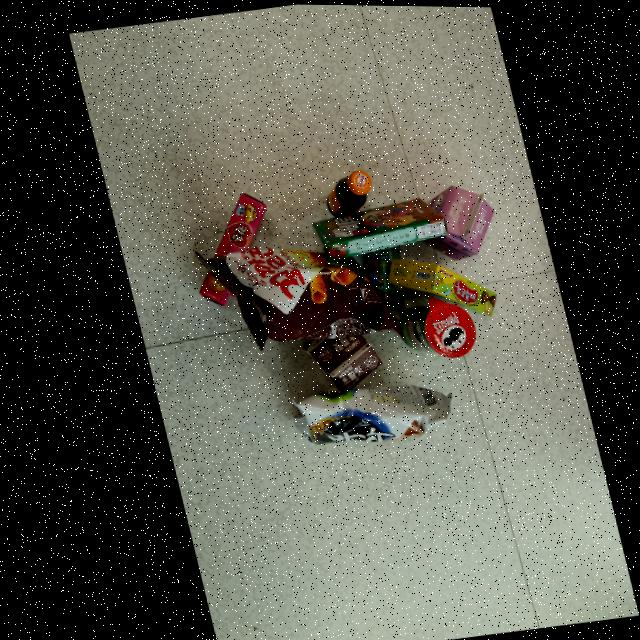bongji: (187, 244, 393, 347), (283, 383, 442, 443)
box: (306, 198, 440, 261), (193, 192, 261, 306), (382, 258, 490, 315)
canSnack: (392, 297, 468, 357)
energdrink: (322, 169, 367, 216)
milk: (297, 317, 374, 395), (414, 183, 489, 258)
